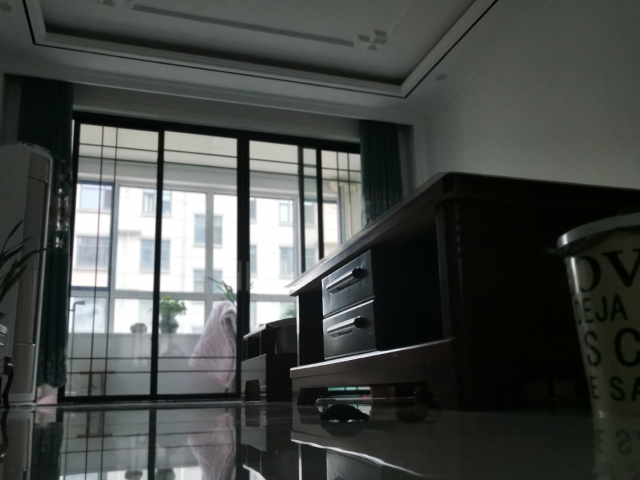curtain: (13, 75, 75, 389)
feces: (318, 403, 370, 422), (391, 403, 431, 423)
sofa: (238, 317, 296, 403)
table: (285, 169, 640, 411)
trashcan: (553, 210, 640, 420)
